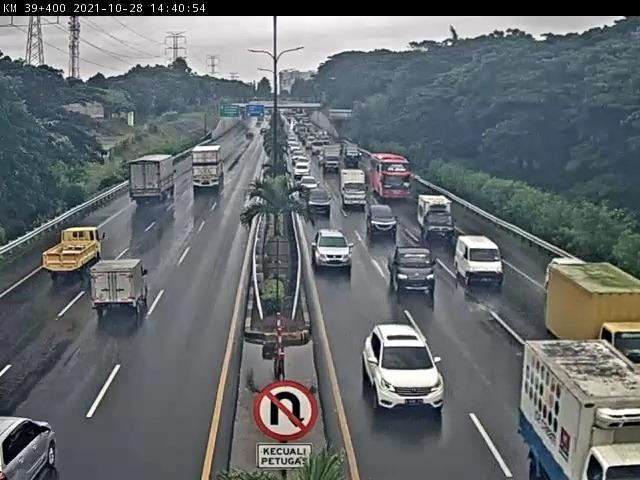bus: (369, 152, 410, 200)
car: (364, 325, 451, 413), (455, 235, 505, 287), (389, 245, 438, 293), (311, 227, 355, 273), (364, 201, 398, 234), (305, 186, 335, 218)
truck: (548, 263, 640, 378), (42, 226, 108, 281), (92, 259, 151, 316), (126, 155, 177, 208), (418, 194, 457, 240), (190, 146, 225, 192), (339, 168, 369, 210)
